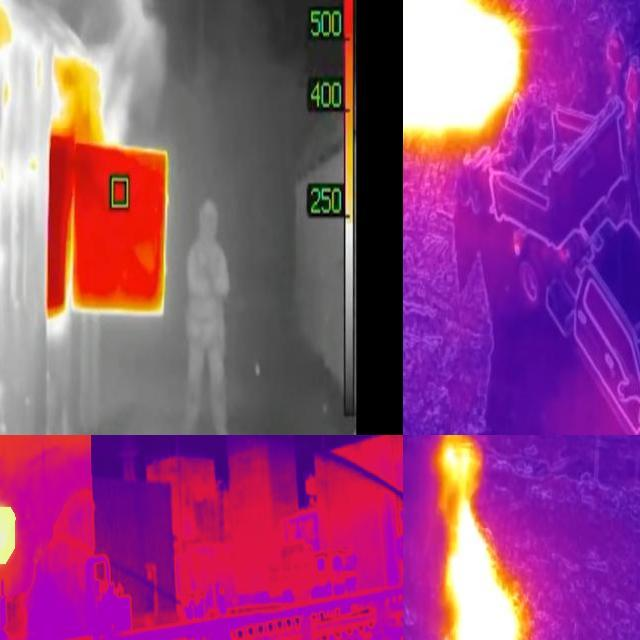fire: (404, 1, 529, 159), (436, 436, 526, 640), (48, 51, 108, 145)
